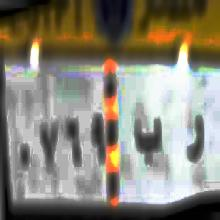0: (15, 140, 35, 186)
6: (64, 115, 84, 172)
7: (38, 115, 61, 180)
9: (91, 110, 106, 170)
baa: (134, 116, 163, 174)
raa: (185, 112, 208, 165)
